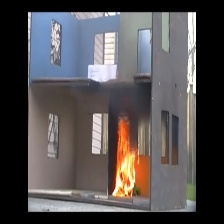fire: (106, 116, 141, 201)
